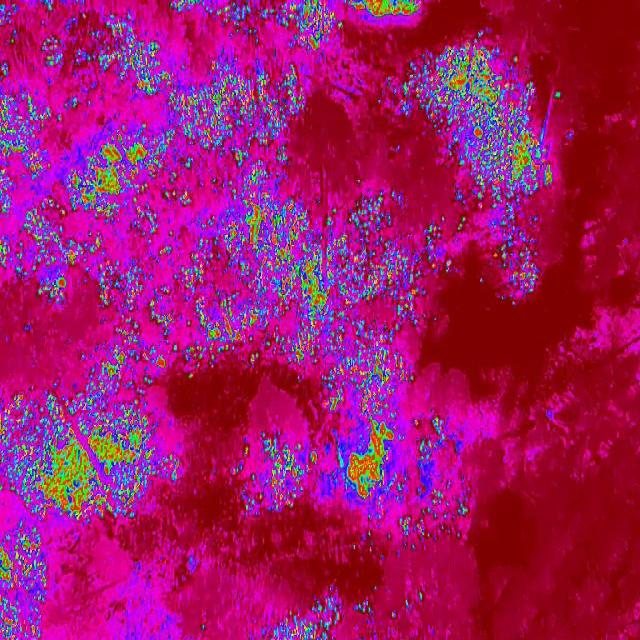fire: (184, 167, 472, 363), (0, 169, 202, 336), (399, 29, 562, 211), (0, 392, 182, 526), (0, 0, 175, 114), (160, 66, 314, 166), (64, 125, 166, 225), (167, 0, 345, 55), (310, 363, 420, 438), (237, 431, 311, 518), (358, 488, 470, 544), (84, 335, 174, 400), (488, 207, 546, 306), (0, 86, 53, 170), (336, 438, 396, 500), (0, 522, 47, 600), (341, 0, 441, 28), (251, 606, 333, 640), (350, 590, 430, 616), (0, 595, 40, 640), (415, 416, 452, 462)
